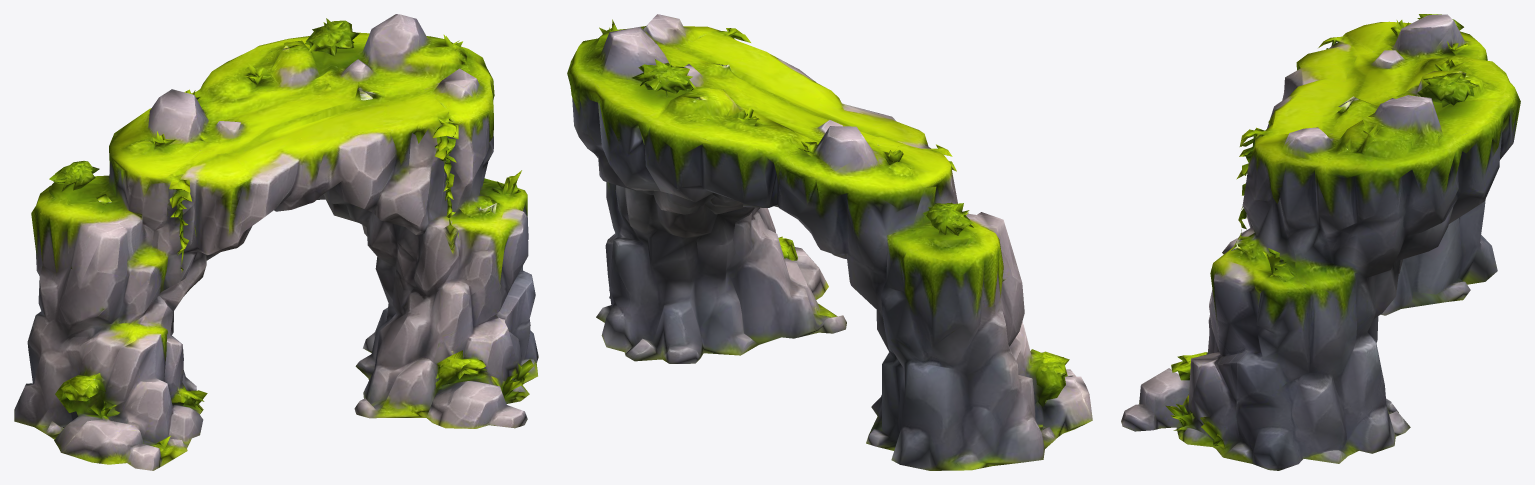
3 views of the same model, side by side, from view 1: azimuth 30°, elevation 25°; view 2: azimuth 150°, elevation 25°; view 3: azimuth 270°, elevation 25° (orthographic). The views are drawn at different scales.
Visible parts, largest first — view 1: prop; view 2: prop; view 3: prop.
Part boxes in pixels (x1,y1,x2,y2): prop: (14,14,538,470); prop: (567,14,1092,470); prop: (1121,14,1520,470).
Size of the model in its own units: 1.57 by 0.9972 by 1.08.
Materials: 1 (1 with a texture image).
